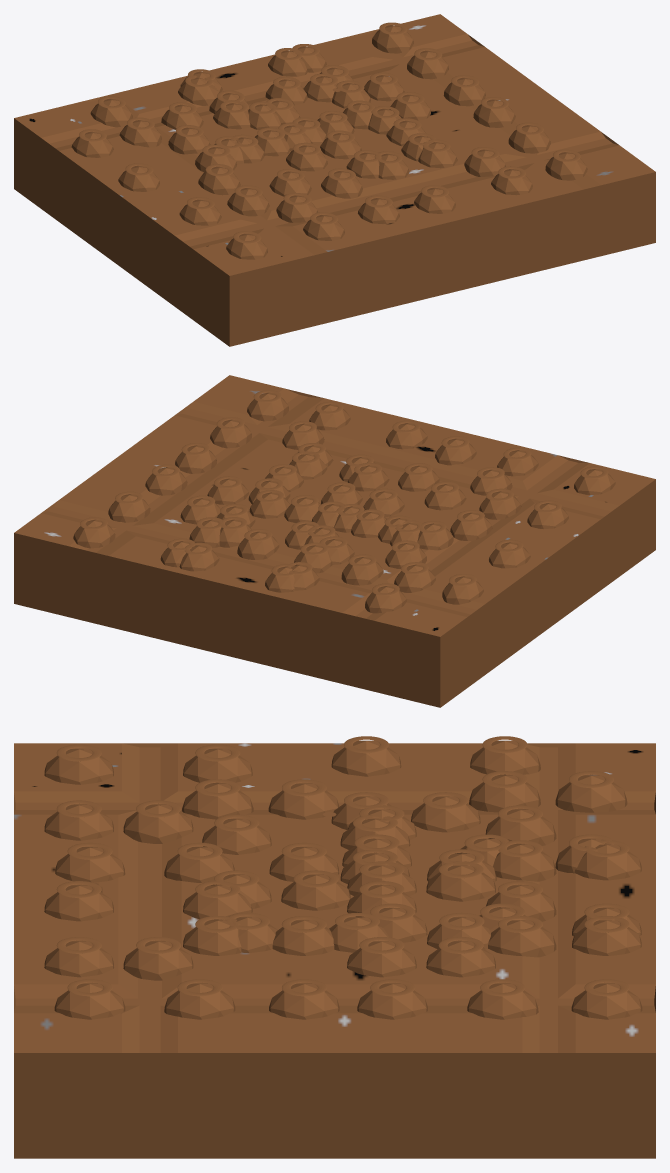
File: Stage3 Potatos.fbx
3 views of the same model, one above another, from view 1: azimuth 30°, elevation 25°; view 2: azimuth 150°, elevation 25°; view 3: azimuth 270°, elevation 25° (orthographic). The views are drawn at different scales.
Visible parts, largest first — view 1: Cube, Icosphere; view 2: Cube, Icosphere; view 3: Cube, Icosphere.
Boxes of the visible parts, x1,y1,x2,y2 form: Cube: (14,14,655,346); Icosphere: (71,22,587,259); Cube: (14,375,655,707); Icosphere: (73,390,615,613); Cube: (14,743,655,1158); Icosphere: (44,736,642,1019).
Bounding box in the file's own units: 389 × 111 × 341.
